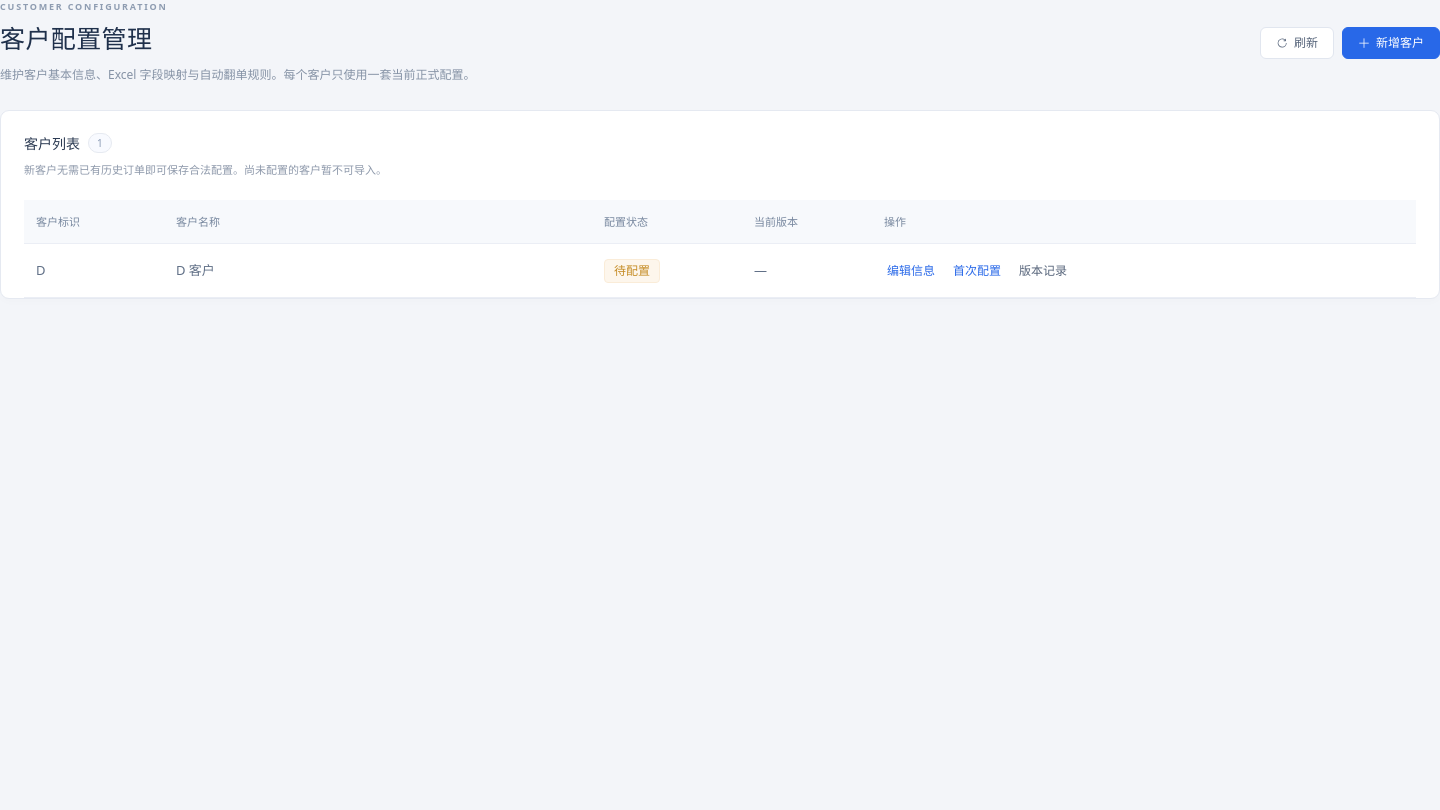
Test: 列表显示新客户并打开首次配置，不自动保存或建单
The width and height of the screenshot is (1440, 810).
Click the button "首次配置" at (977, 271), box [950,262,1004,280]
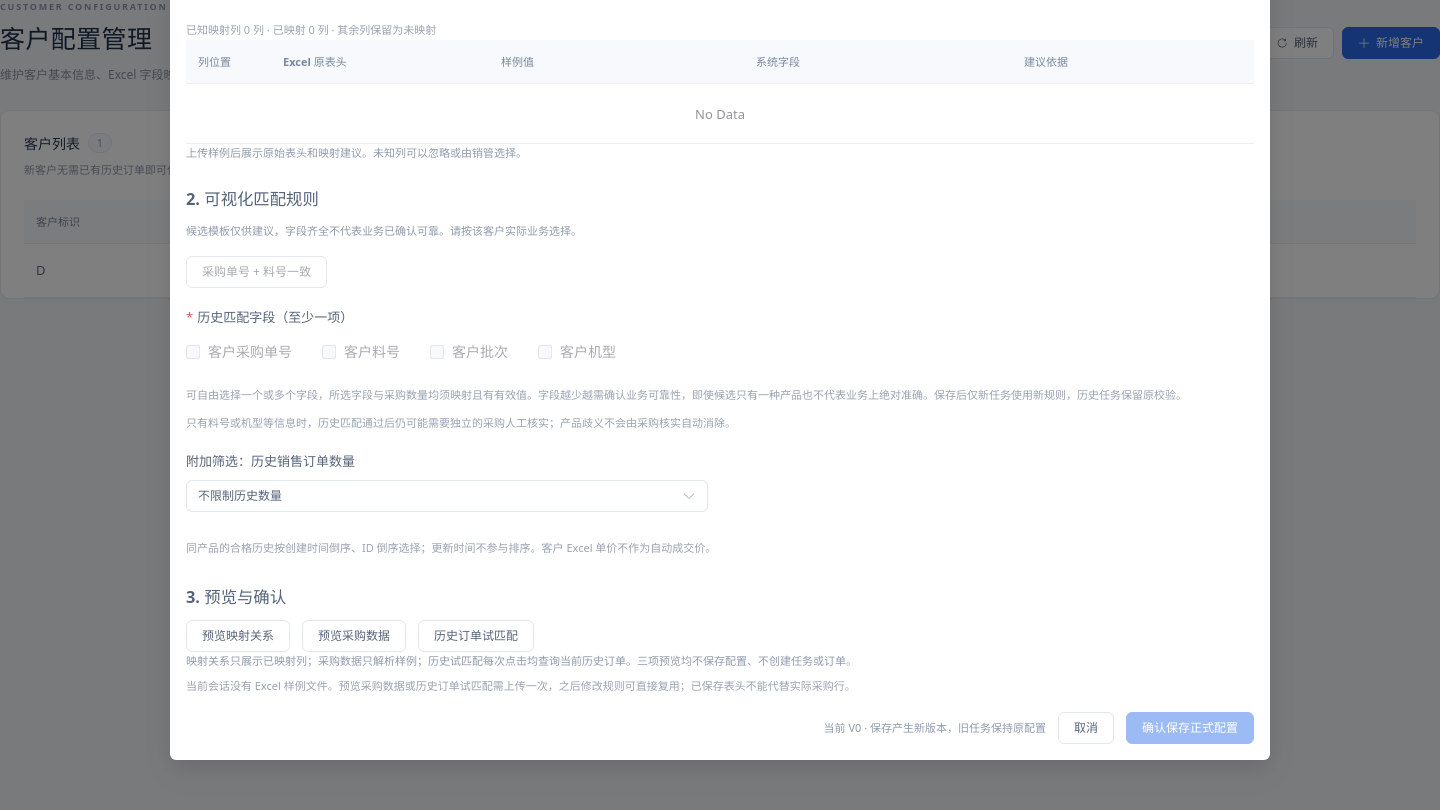
Expected: the button "确认保存正式配置" is disabled, [1126,712,1254,744]
